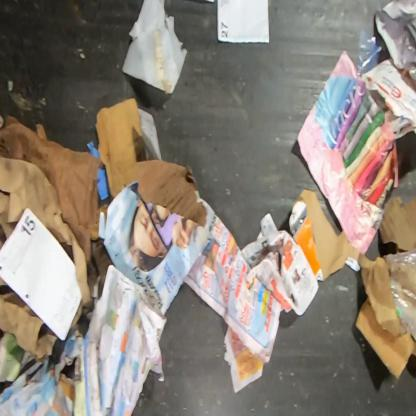cardboard: (0, 158, 93, 362), (0, 116, 108, 266), (355, 196, 415, 383), (288, 188, 362, 282), (93, 97, 149, 200), (136, 159, 214, 231)
soft_plastic: (355, 30, 383, 76)
